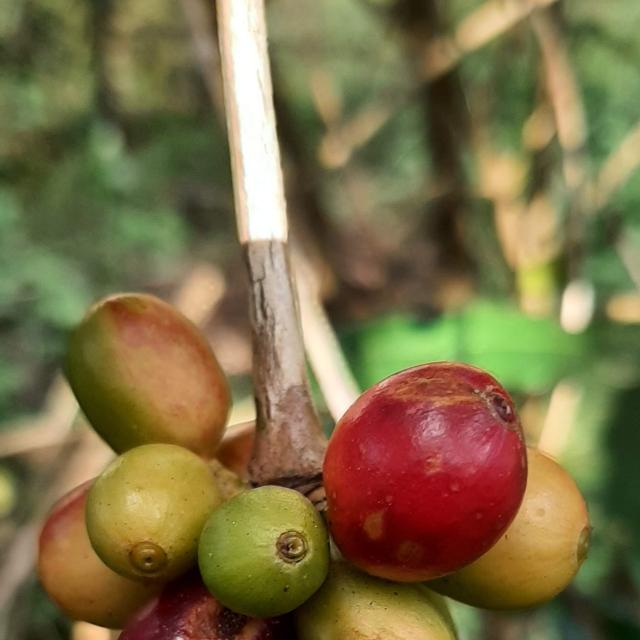green: (198, 487, 330, 619)
red: (323, 362, 529, 583), (118, 572, 271, 640)
yellow: (66, 294, 231, 457), (428, 449, 592, 612), (85, 445, 222, 584), (36, 482, 162, 630), (295, 558, 458, 640)
